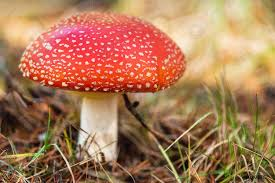Amanita muscaria: (12, 6, 189, 160)
